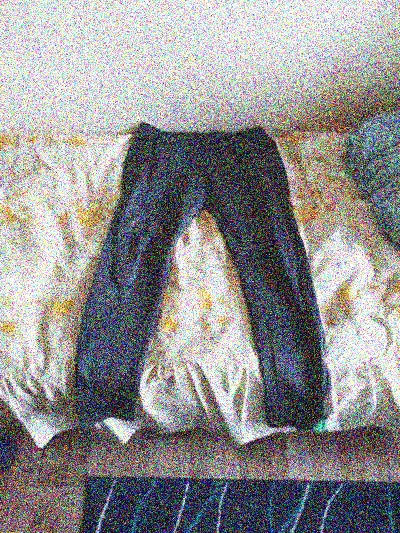Pants: (50, 87, 358, 447)
